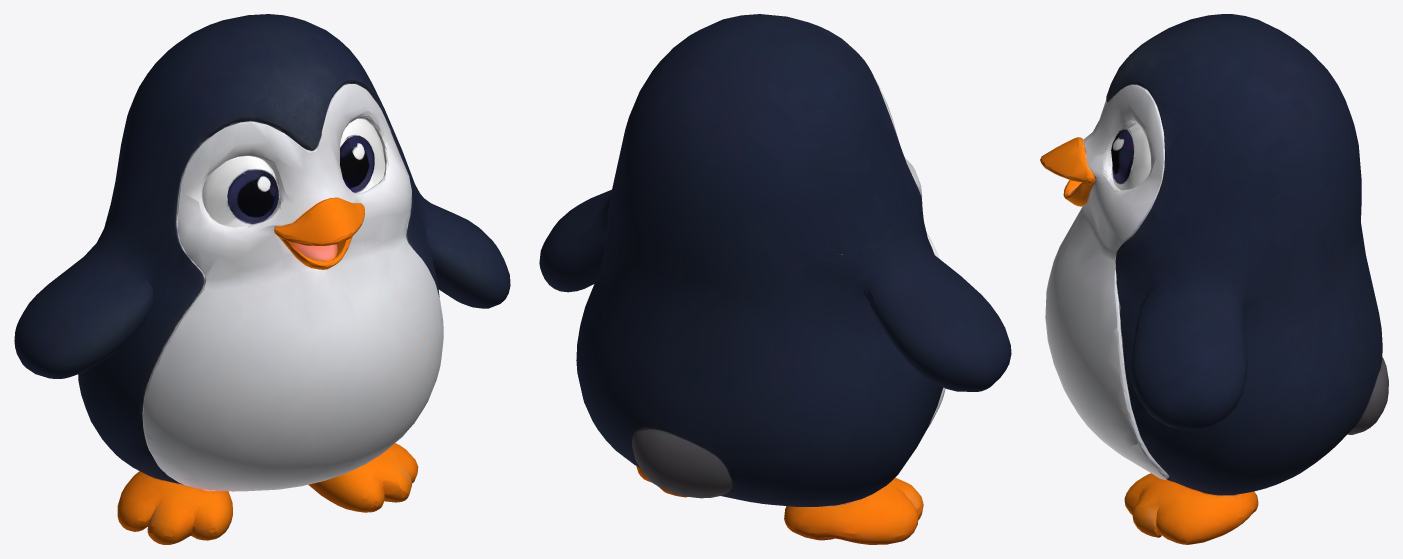
The model's file is penguin.glb.
3 renders of one model, left to right at view 1: azimuth 30°, elevation 25°; view 2: azimuth 150°, elevation 25°; view 3: azimuth 270°, elevation 25°, orthographic. The views are drawn at different scales.
Parts seen in each view (by area): view 1: model; view 2: model; view 3: model.
Boxes of the visible parts, box(x1,y1,x2,y2) form: model: box(14, 14, 510, 544); model: box(539, 14, 1011, 544); model: box(1040, 14, 1388, 544).
Size of the model in its own units: 1.9 by 1.87 by 1.29.
1 material, 1 textured.
